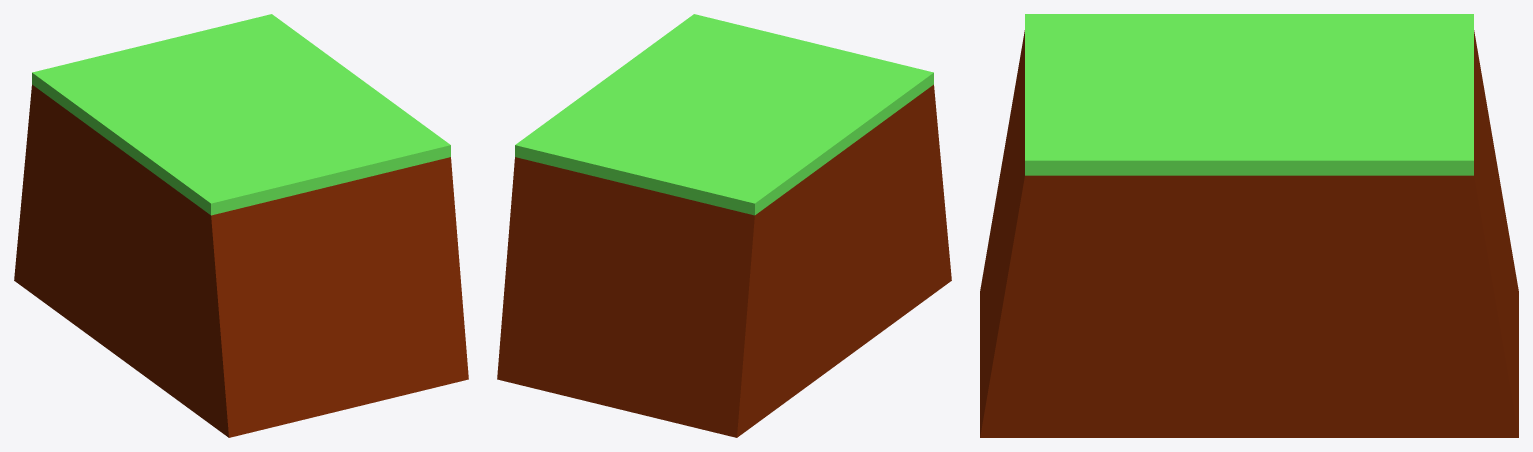
The model's file is escenarioTestDerecha3L.fbx.
3 views of the same model, side by side, from view 1: azimuth 30°, elevation 25°; view 2: azimuth 150°, elevation 25°; view 3: azimuth 270°, elevation 25° (orthographic). The views are drawn at different scales.
Visible parts, largest first — view 1: Cube.017; view 2: Cube.017; view 3: Cube.017.
Part boxes in pixels (left/top/right/bottom): Cube.017: left=14, top=14, right=468, bottom=437; Cube.017: left=497, top=14, right=951, bottom=437; Cube.017: left=980, top=14, right=1518, bottom=437.
Bounding box in the file's own units: 2545 × 2244 × 3951.
